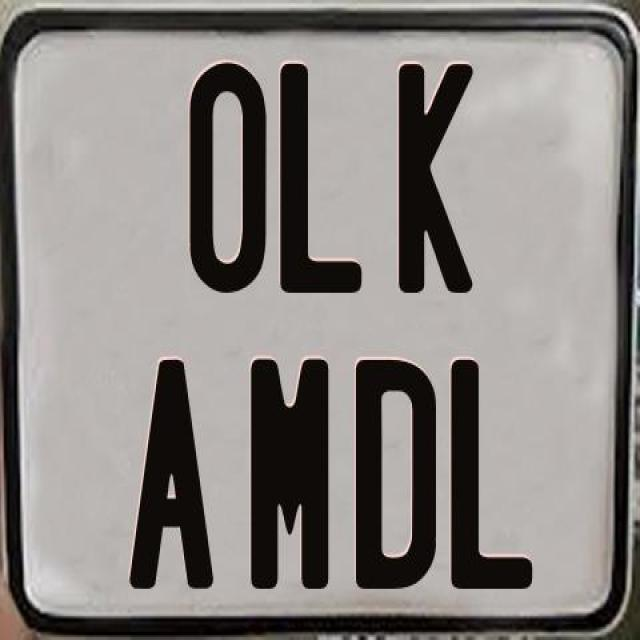0: (186, 62, 272, 298)
A: (129, 360, 216, 590)
D: (352, 358, 440, 597)
K: (396, 64, 471, 298)
L: (449, 356, 536, 594), (280, 64, 366, 296)
M: (249, 355, 335, 592)
